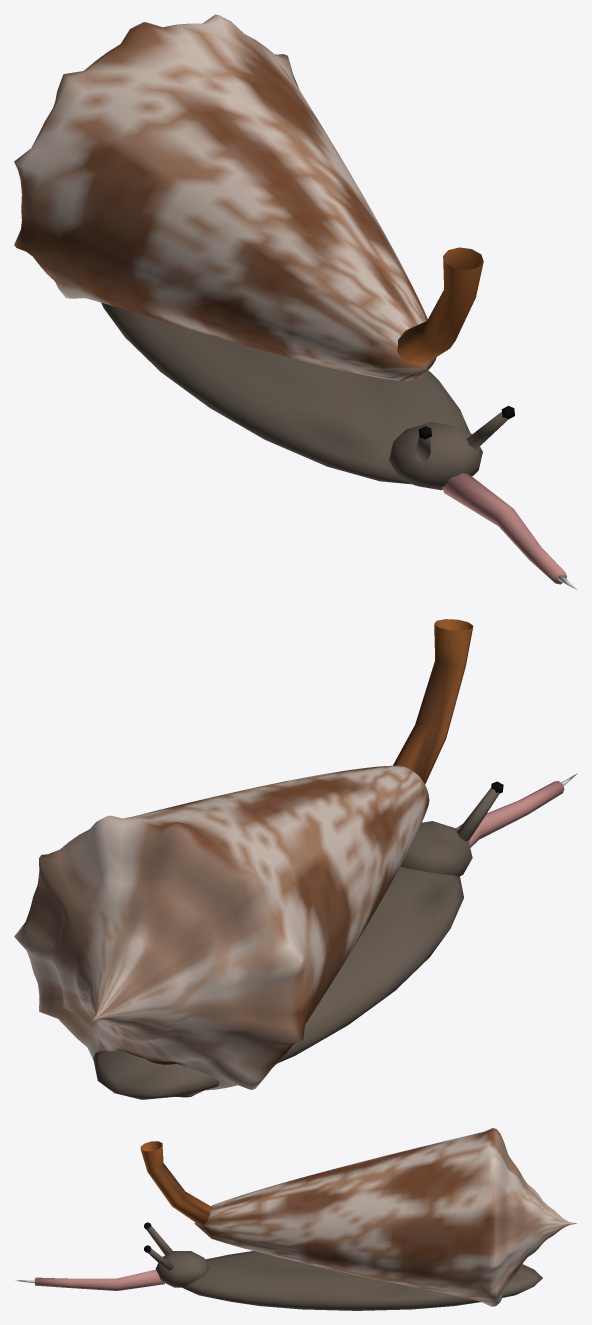
The model's file is ConusGeographus.fbx.
3 renders of one model, top to bottom at view 1: azimuth 30°, elevation 25°; view 2: azimuth 150°, elevation 25°; view 3: azimuth 270°, elevation 25°, orthographic. The views are drawn at different scales.
Visible parts, largest first — view 1: ConusGeographus; view 2: ConusGeographus; view 3: ConusGeographus.
Boxes of the visible parts, x1,y1,x2,y2 form: ConusGeographus: [14, 14, 576, 589]; ConusGeographus: [14, 619, 577, 1099]; ConusGeographus: [15, 1128, 576, 1310].
Bounding box in the file's own units: 0.5011 × 0.4562 × 1.46.
